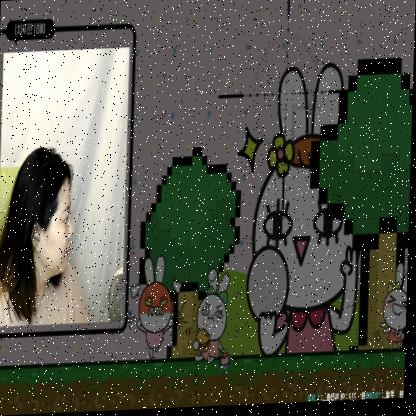streamer: (0, 145, 96, 326)
